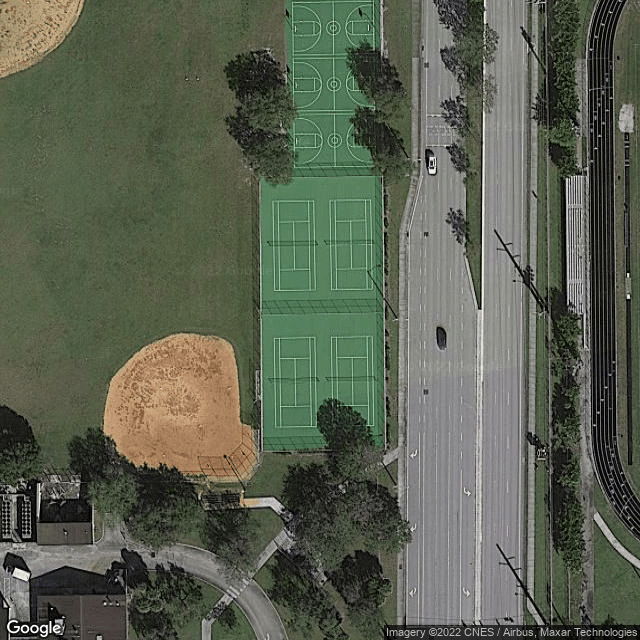Court: (329, 334, 377, 428), (327, 197, 374, 292), (272, 335, 319, 429), (271, 199, 318, 292)
